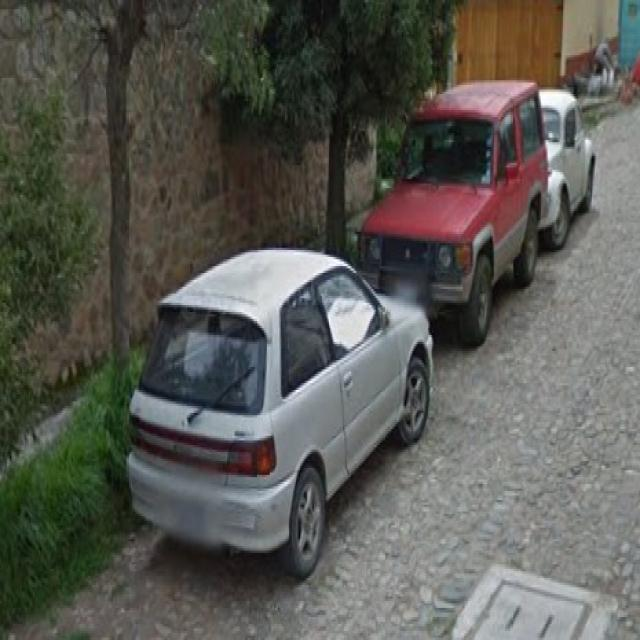cars: (128, 242, 434, 578), (374, 94, 543, 330), (548, 88, 603, 254)
